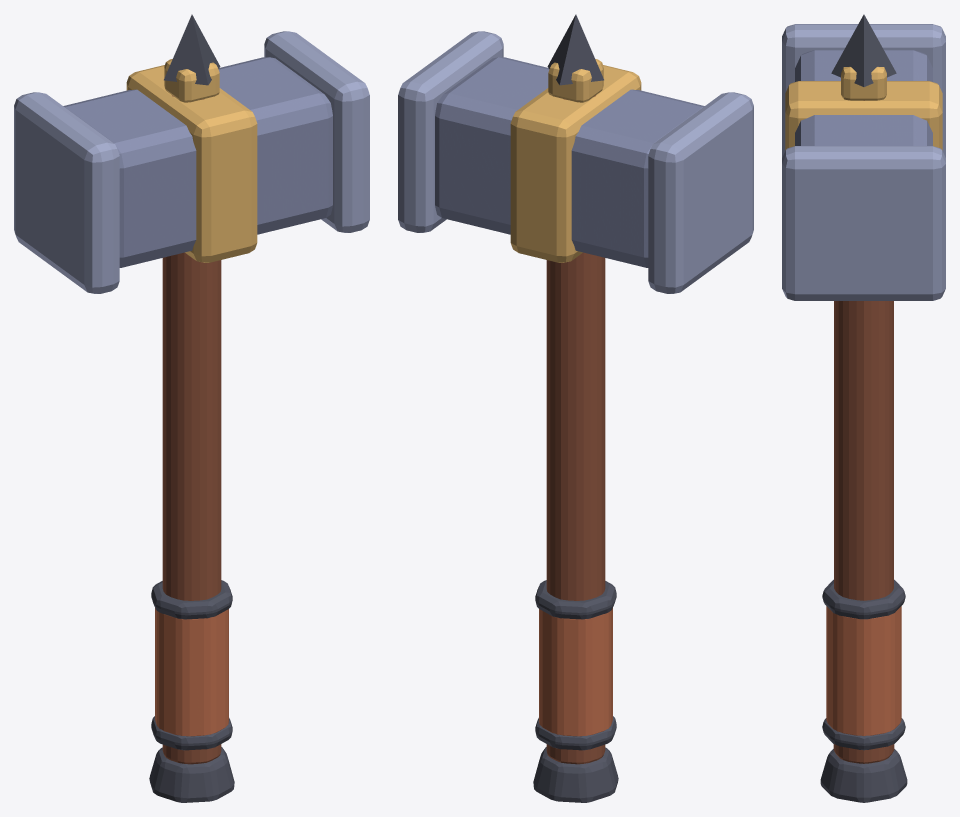
Rendered from weapon-hammer.glb.
The picture shows the model from 3 angles, left to right: view 1: azimuth 30°, elevation 25°; view 2: azimuth 150°, elevation 25°; view 3: azimuth 270°, elevation 25°; orthographic projection.
Parts seen in each view (by area): view 1: weapon-hammer; view 2: weapon-hammer; view 3: weapon-hammer.
Part boxes in pixels (<box>): weapon-hammer: <box>14,14,369,802</box>; weapon-hammer: <box>398,14,753,802</box>; weapon-hammer: <box>782,14,945,802</box>.
Bounding box in the file's own units: 0.25 × 0.65 × 0.125.
Materials: 1 (1 with a texture image).
